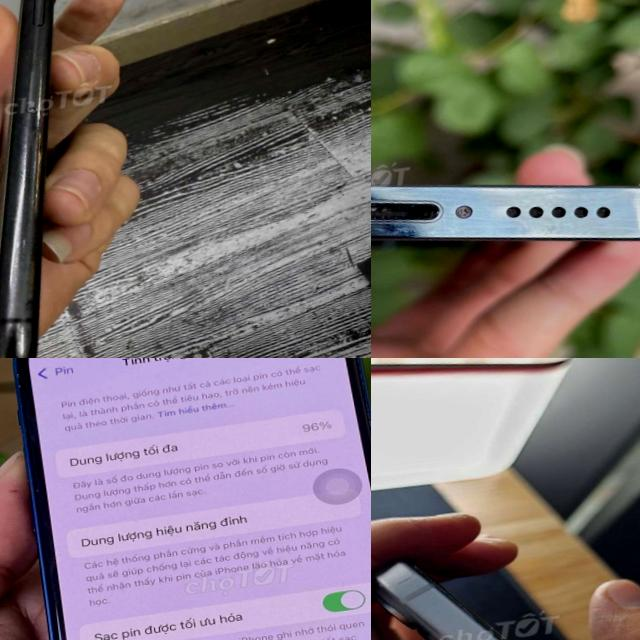scratch: (371, 151, 468, 286)
